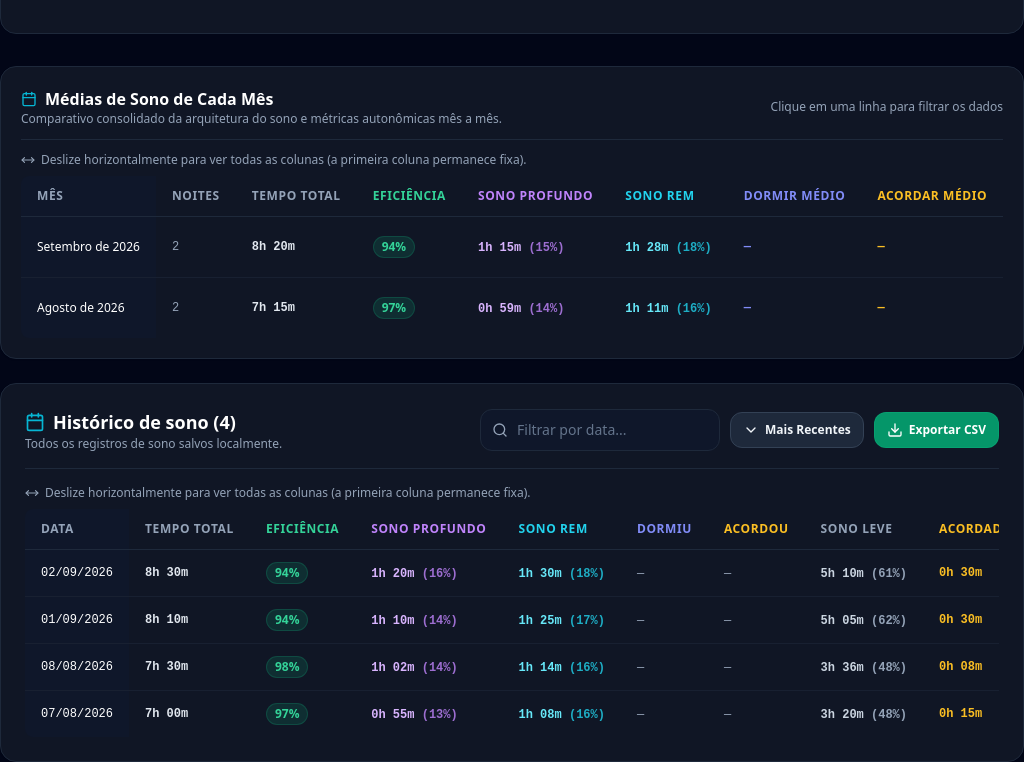
it: SleepView › filters table by date search term
This screenshot has width=1024, height=762.
(page scrolled)
Expected: the column heading "08/08/2026" is shown, [25,644,129,690]
Expected: the column heading "07/08/2026" is shown, [25,690,129,737]
Step 1. Type "2026-08-08" into the field with placeholder "Filtrar por data..." → coordinates (600, 430), box [480,409,720,451]
(page scrolled)
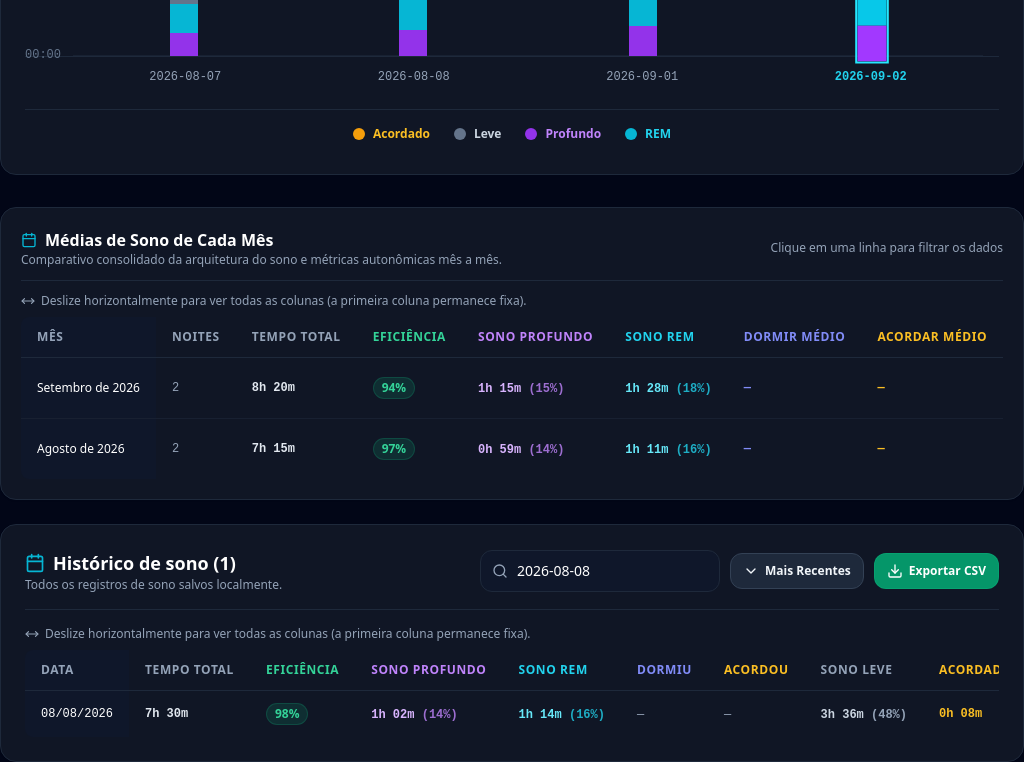
Expected: the column heading "08/08/2026" is shown, [25,691,129,737]
Expected: the column heading "07/08/2026" is gone
